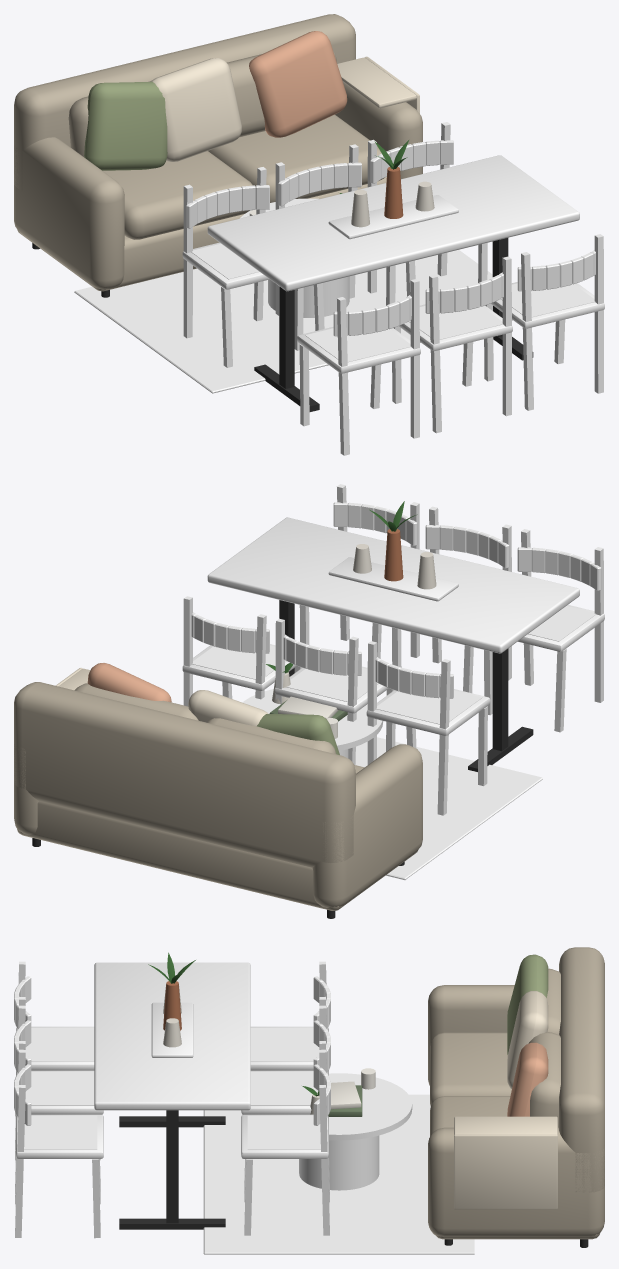
Rendered from mob_sala.glb.
3 renders of one model, top to bottom at view 1: azimuth 30°, elevation 25°; view 2: azimuth 150°, elevation 25°; view 3: azimuth 270°, elevation 25°, orthographic.
Parts seen in each view (by area): view 1: mob_sala_madeira, mob_sala_boucle, mob_sala_juta; view 2: mob_sala_boucle, mob_sala_madeira, mob_sala_juta; view 3: mob_sala_madeira, mob_sala_boucle, mob_sala_juta.
Part boxes in pixels (left/top/right/bottom): mob_sala_madeira: left=182, top=122, right=604, bottom=455; mob_sala_boucle: left=14, top=14, right=422, bottom=297; mob_sala_juta: left=74, top=250, right=512, bottom=393; mob_sala_boucle: left=14, top=663, right=422, bottom=918; mob_sala_madeira: left=182, top=484, right=604, bottom=815; mob_sala_juta: left=355, top=737, right=542, bottom=880; mob_sala_madeira: left=14, top=952, right=412, bottom=1238; mob_sala_boucle: left=428, top=947, right=604, bottom=1247; mob_sala_juta: left=203, top=1094, right=474, bottom=1254.
Size of the model in its own units: 1.82 by 1.13 by 2.84.
